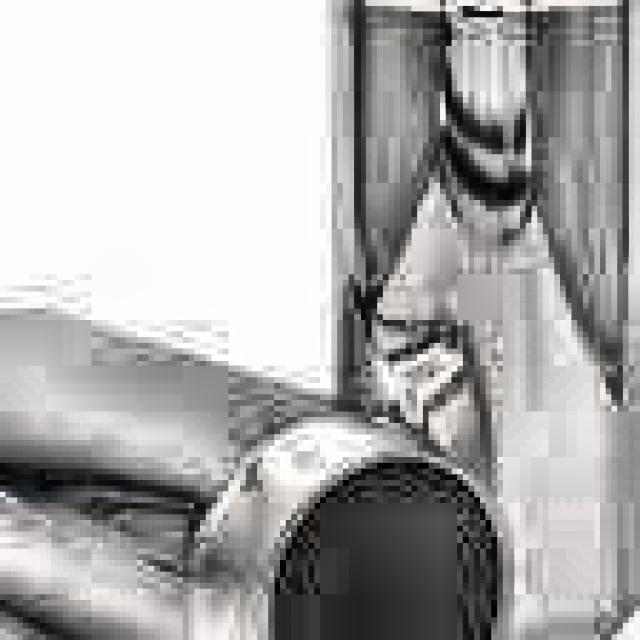metal: (320, 0, 640, 640), (0, 291, 520, 640)
